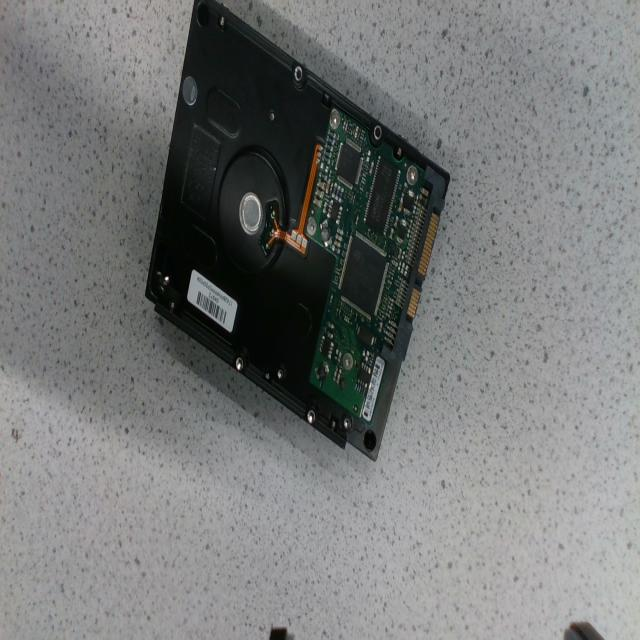case: (146, 0, 450, 460)
pcb: (304, 104, 445, 431)
screw: (406, 165, 418, 185), (330, 108, 340, 131), (306, 217, 316, 236), (343, 353, 353, 371)
